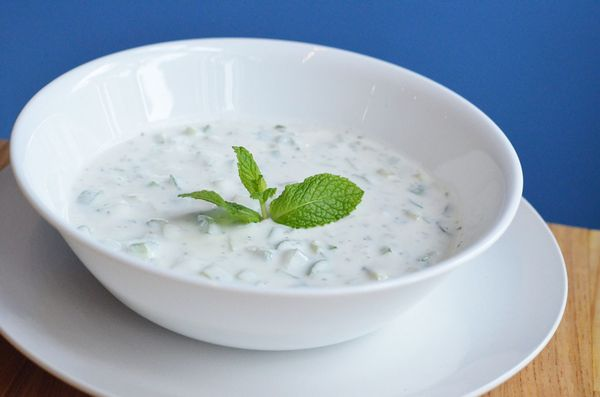sushi: (24, 42, 527, 353)
